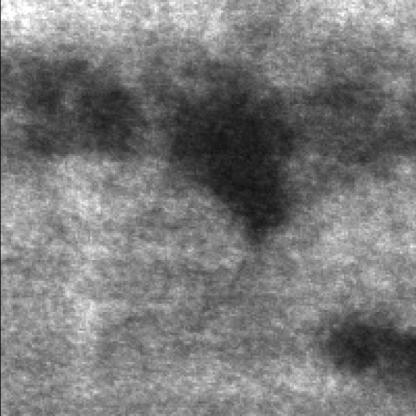patches: (160, 73, 343, 233), (27, 77, 129, 158), (318, 322, 414, 387)
